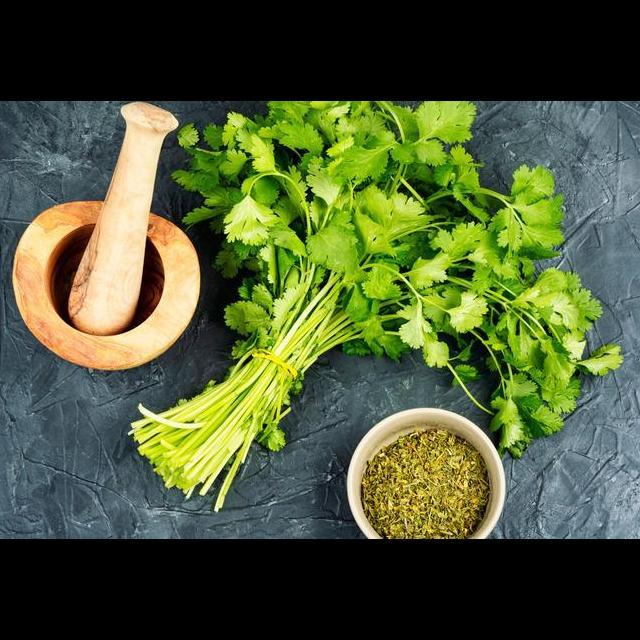cilantro: (179, 101, 573, 432)
